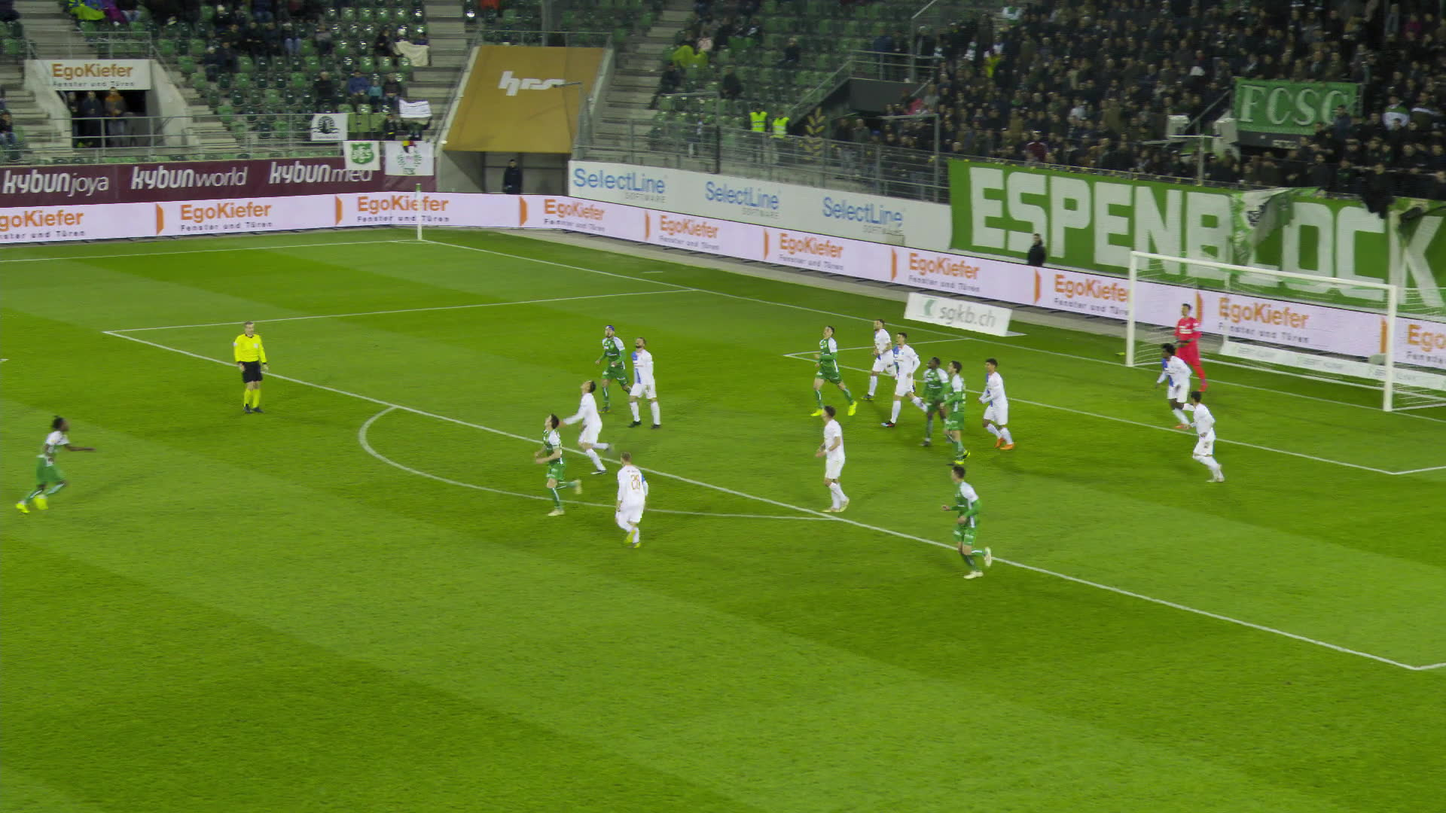player: (23, 413, 86, 516), (804, 410, 865, 513), (944, 465, 994, 580), (532, 414, 582, 517), (571, 378, 628, 466), (807, 324, 857, 416), (612, 452, 657, 546), (978, 358, 1023, 445), (623, 338, 664, 428), (1166, 303, 1205, 392), (1184, 391, 1222, 482), (894, 336, 931, 425), (941, 360, 972, 463), (595, 326, 632, 412), (1152, 340, 1189, 426), (918, 358, 948, 449), (868, 319, 898, 397)
referee: (231, 321, 268, 413)
